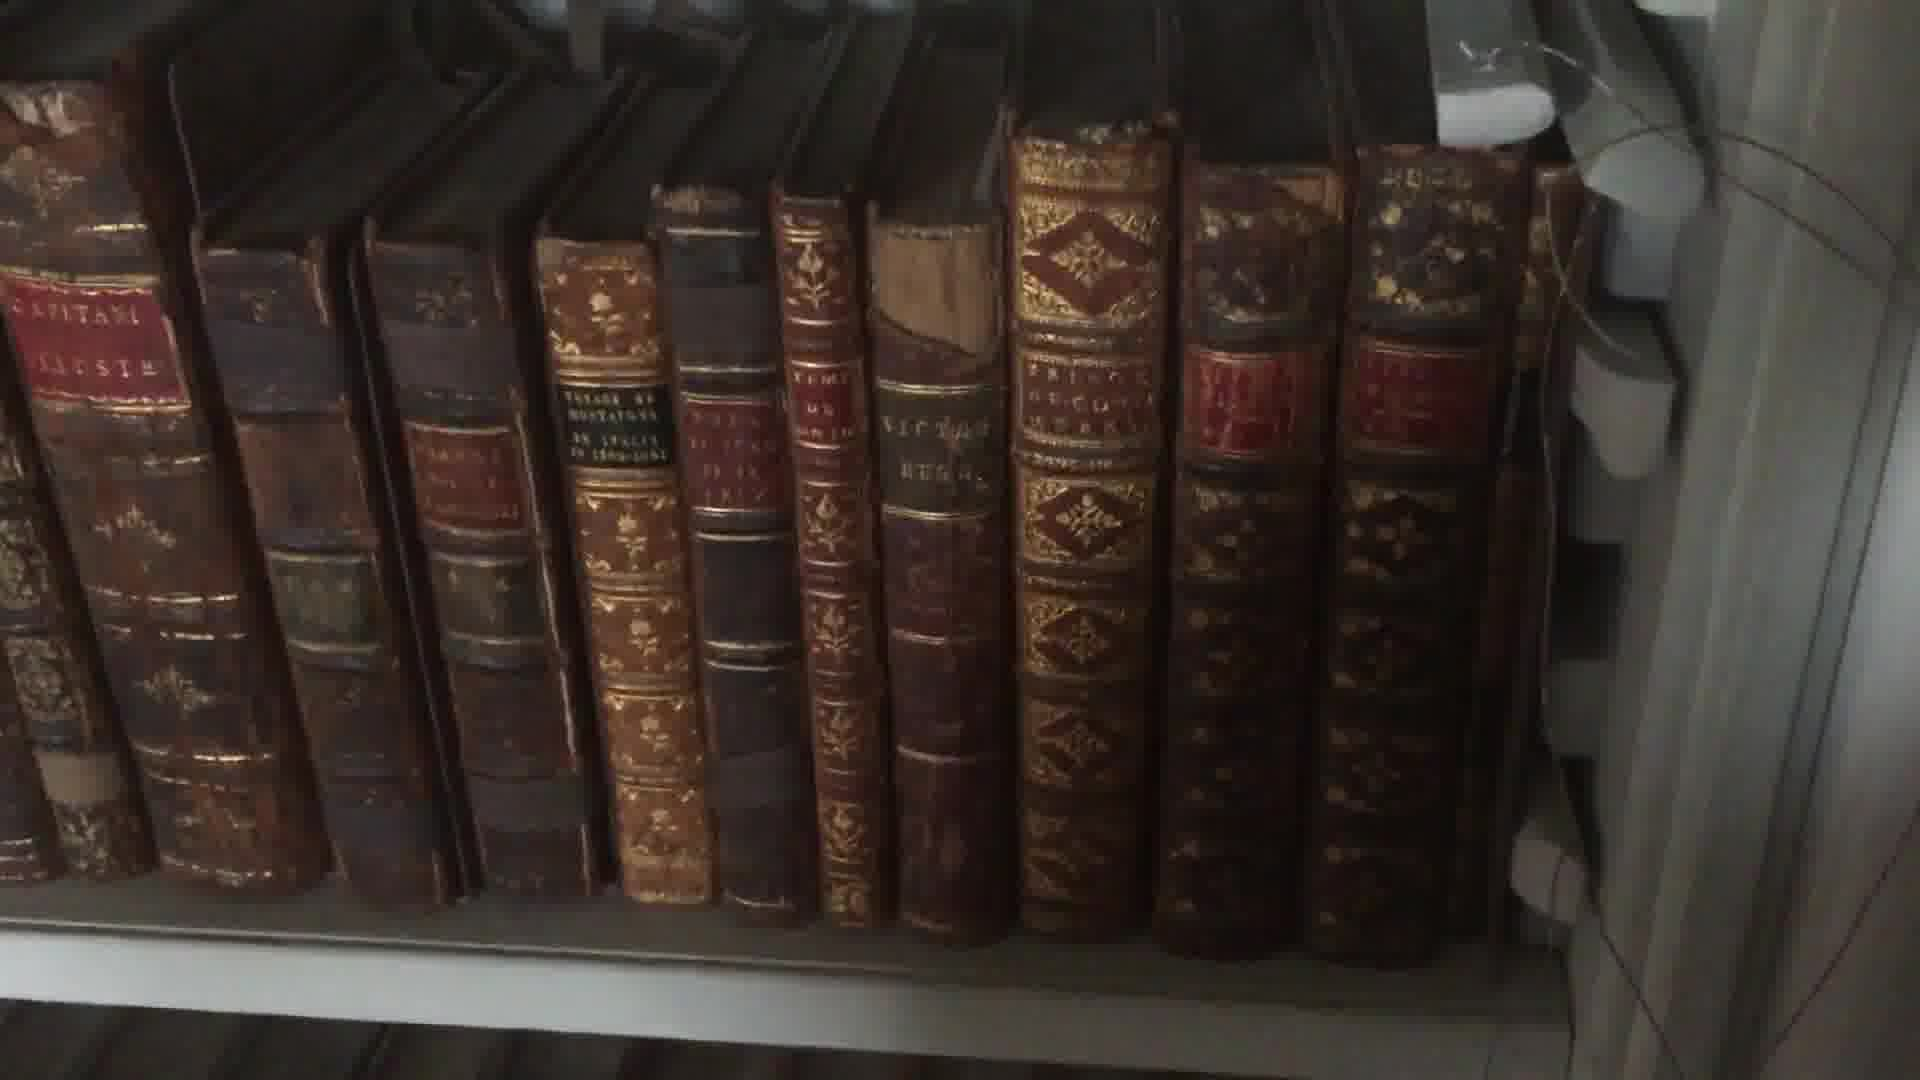Aa6-38: (18, 69, 272, 876)
Aa6-39_40: (185, 212, 604, 914)
Aa6-41: (529, 233, 713, 936)
Aa6-42: (655, 170, 837, 961)
Aa6-43: (756, 187, 897, 924)
Aa6-44: (865, 183, 1036, 945)
Aa6-45: (1014, 127, 1168, 936)
Aa6-46-47: (1158, 119, 1494, 990)
Aa6-48: (1453, 144, 1592, 982)
